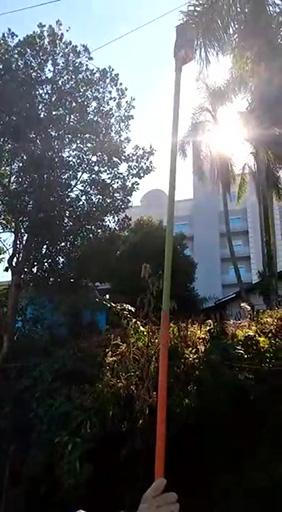Vara_Manobra: (152, 62, 183, 496)
